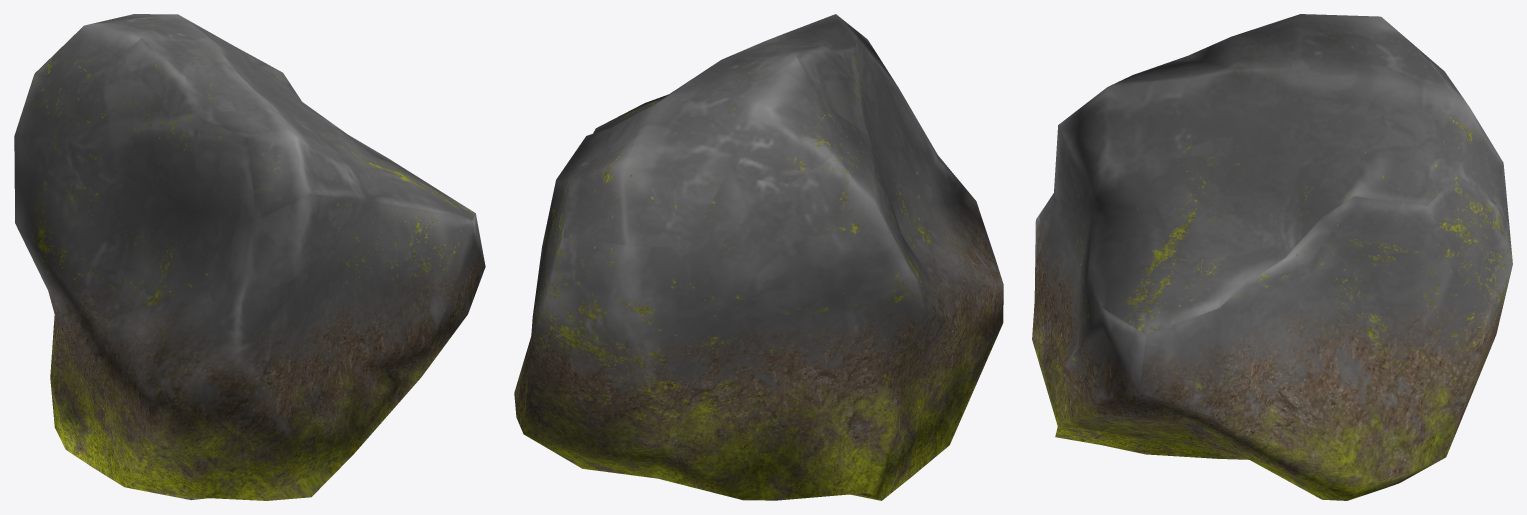
File: ROK0110041.fbx
3 renders of one model, left to right at view 1: azimuth 30°, elevation 25°; view 2: azimuth 150°, elevation 25°; view 3: azimuth 270°, elevation 25°, orthographic. The views are drawn at different scales.
Visible parts, largest first — view 1: smROK0110041; view 2: smROK0110041; view 3: smROK0110041.
Boxes of the visible parts, x1,y1,x2,y2 form: smROK0110041: (14,14,485,500); smROK0110041: (514,14,1003,500); smROK0110041: (1032,14,1512,500).
Bounding box in the file's own units: 183 × 180 × 193.
Materials: 1 (1 with a texture image).
